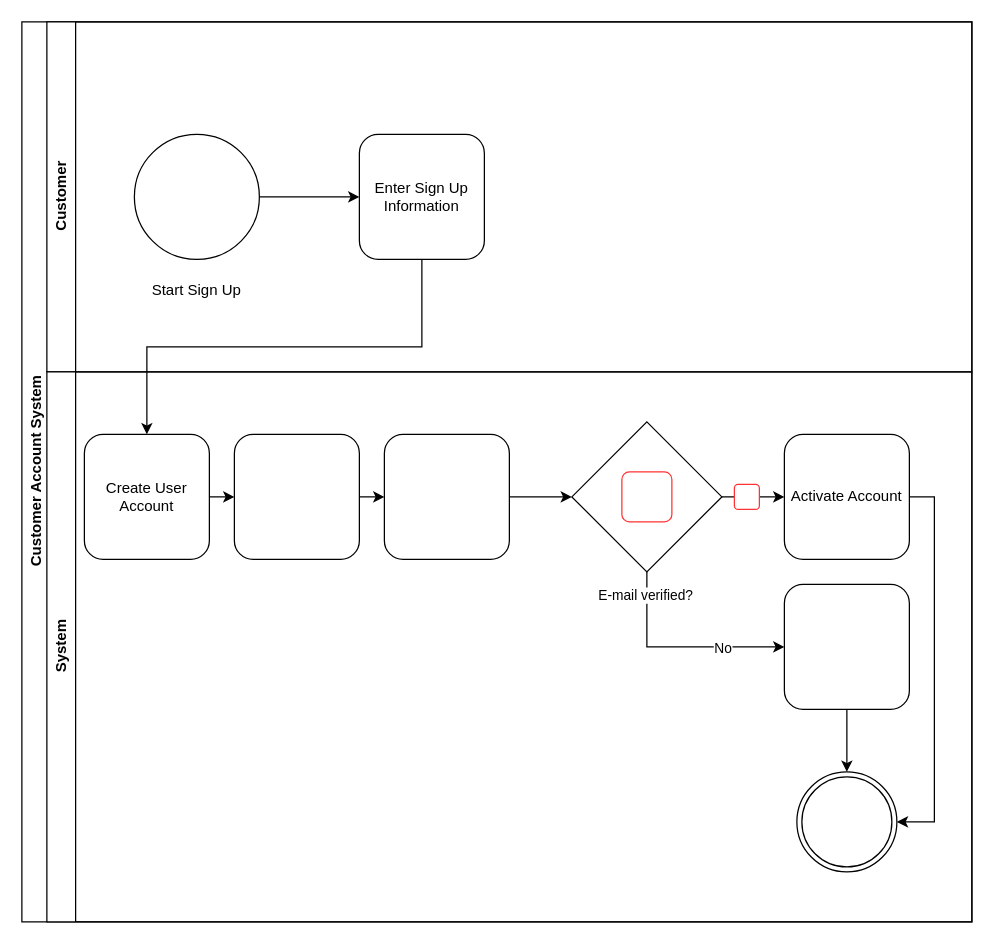
The diagram is 994 pixels wide and 944 high, and some of its shapes have lost their labels. Each missing label, with the centre of its shape:
Click Verification Link: (x=446, y=496)
Resend Verification E-mail: (x=846, y=646)
Send Verification E-mail: (x=296, y=496)
